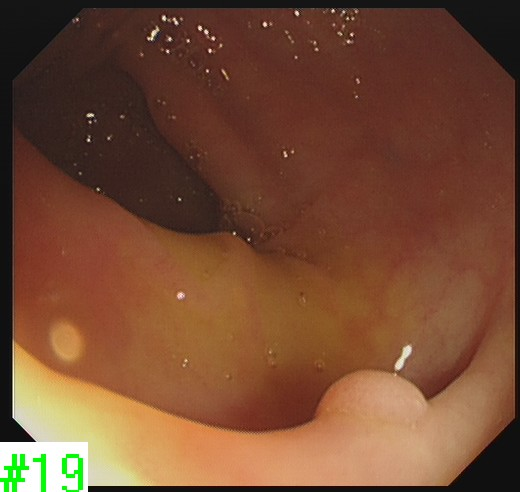others: (311, 367, 431, 429)
